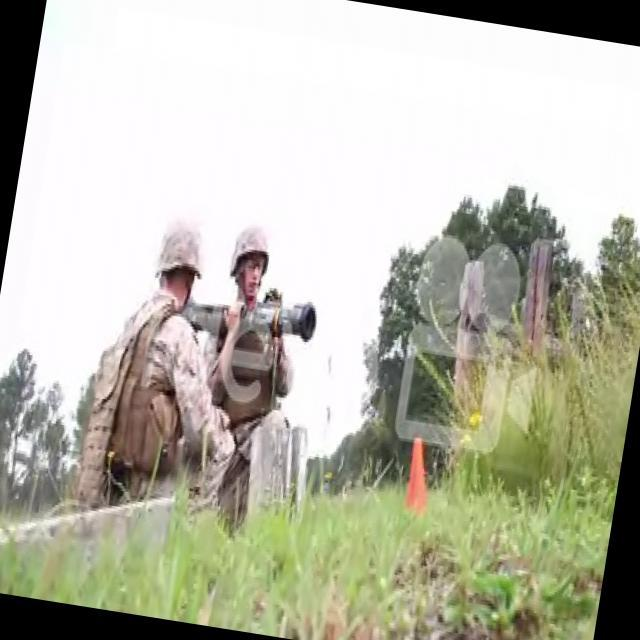rocket: (195, 288, 319, 351)
